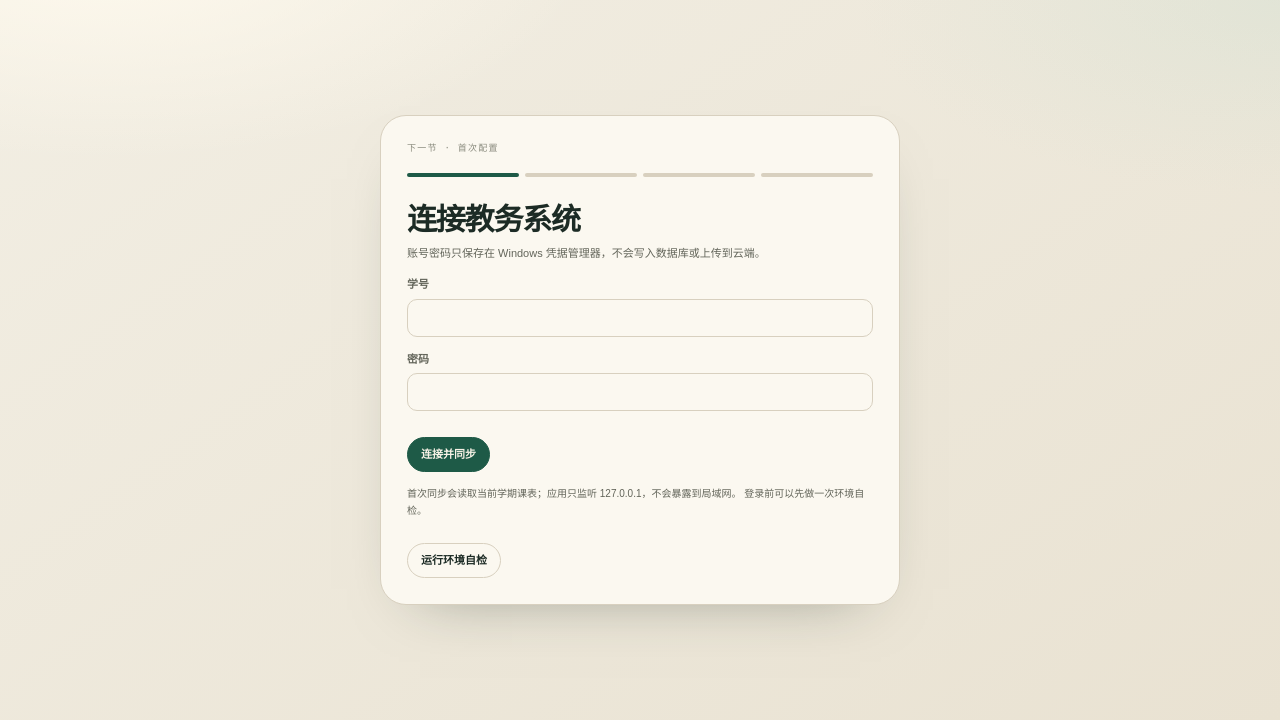
it: SetupWizard › runs the environment preflight before login
Click the button "运行环境自检": (454, 561) [407,543,501,578]
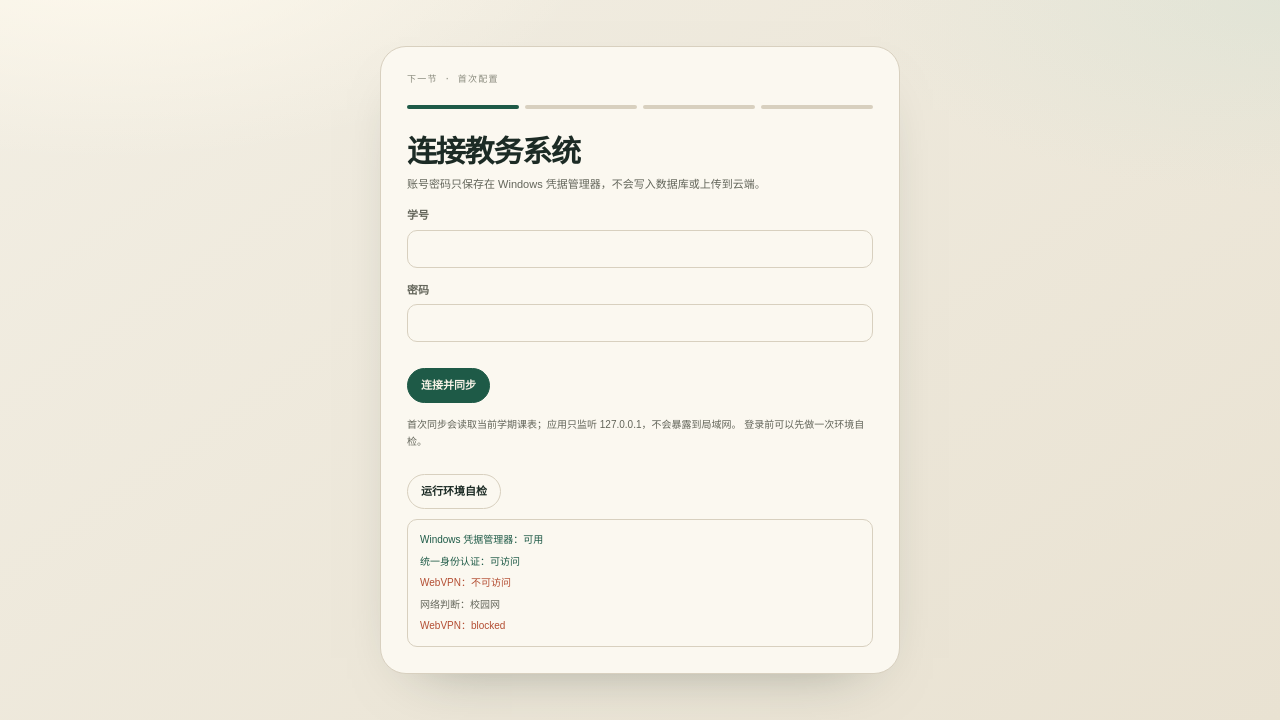
Now the text "Windows 凭据管理器：可用" is shown, box [420,534,543,545]
Now the text "统一身份认证：可访问" is shown, box [420,556,520,567]
Now the text "WebVPN：不可访问" is shown, box [420,577,511,588]
